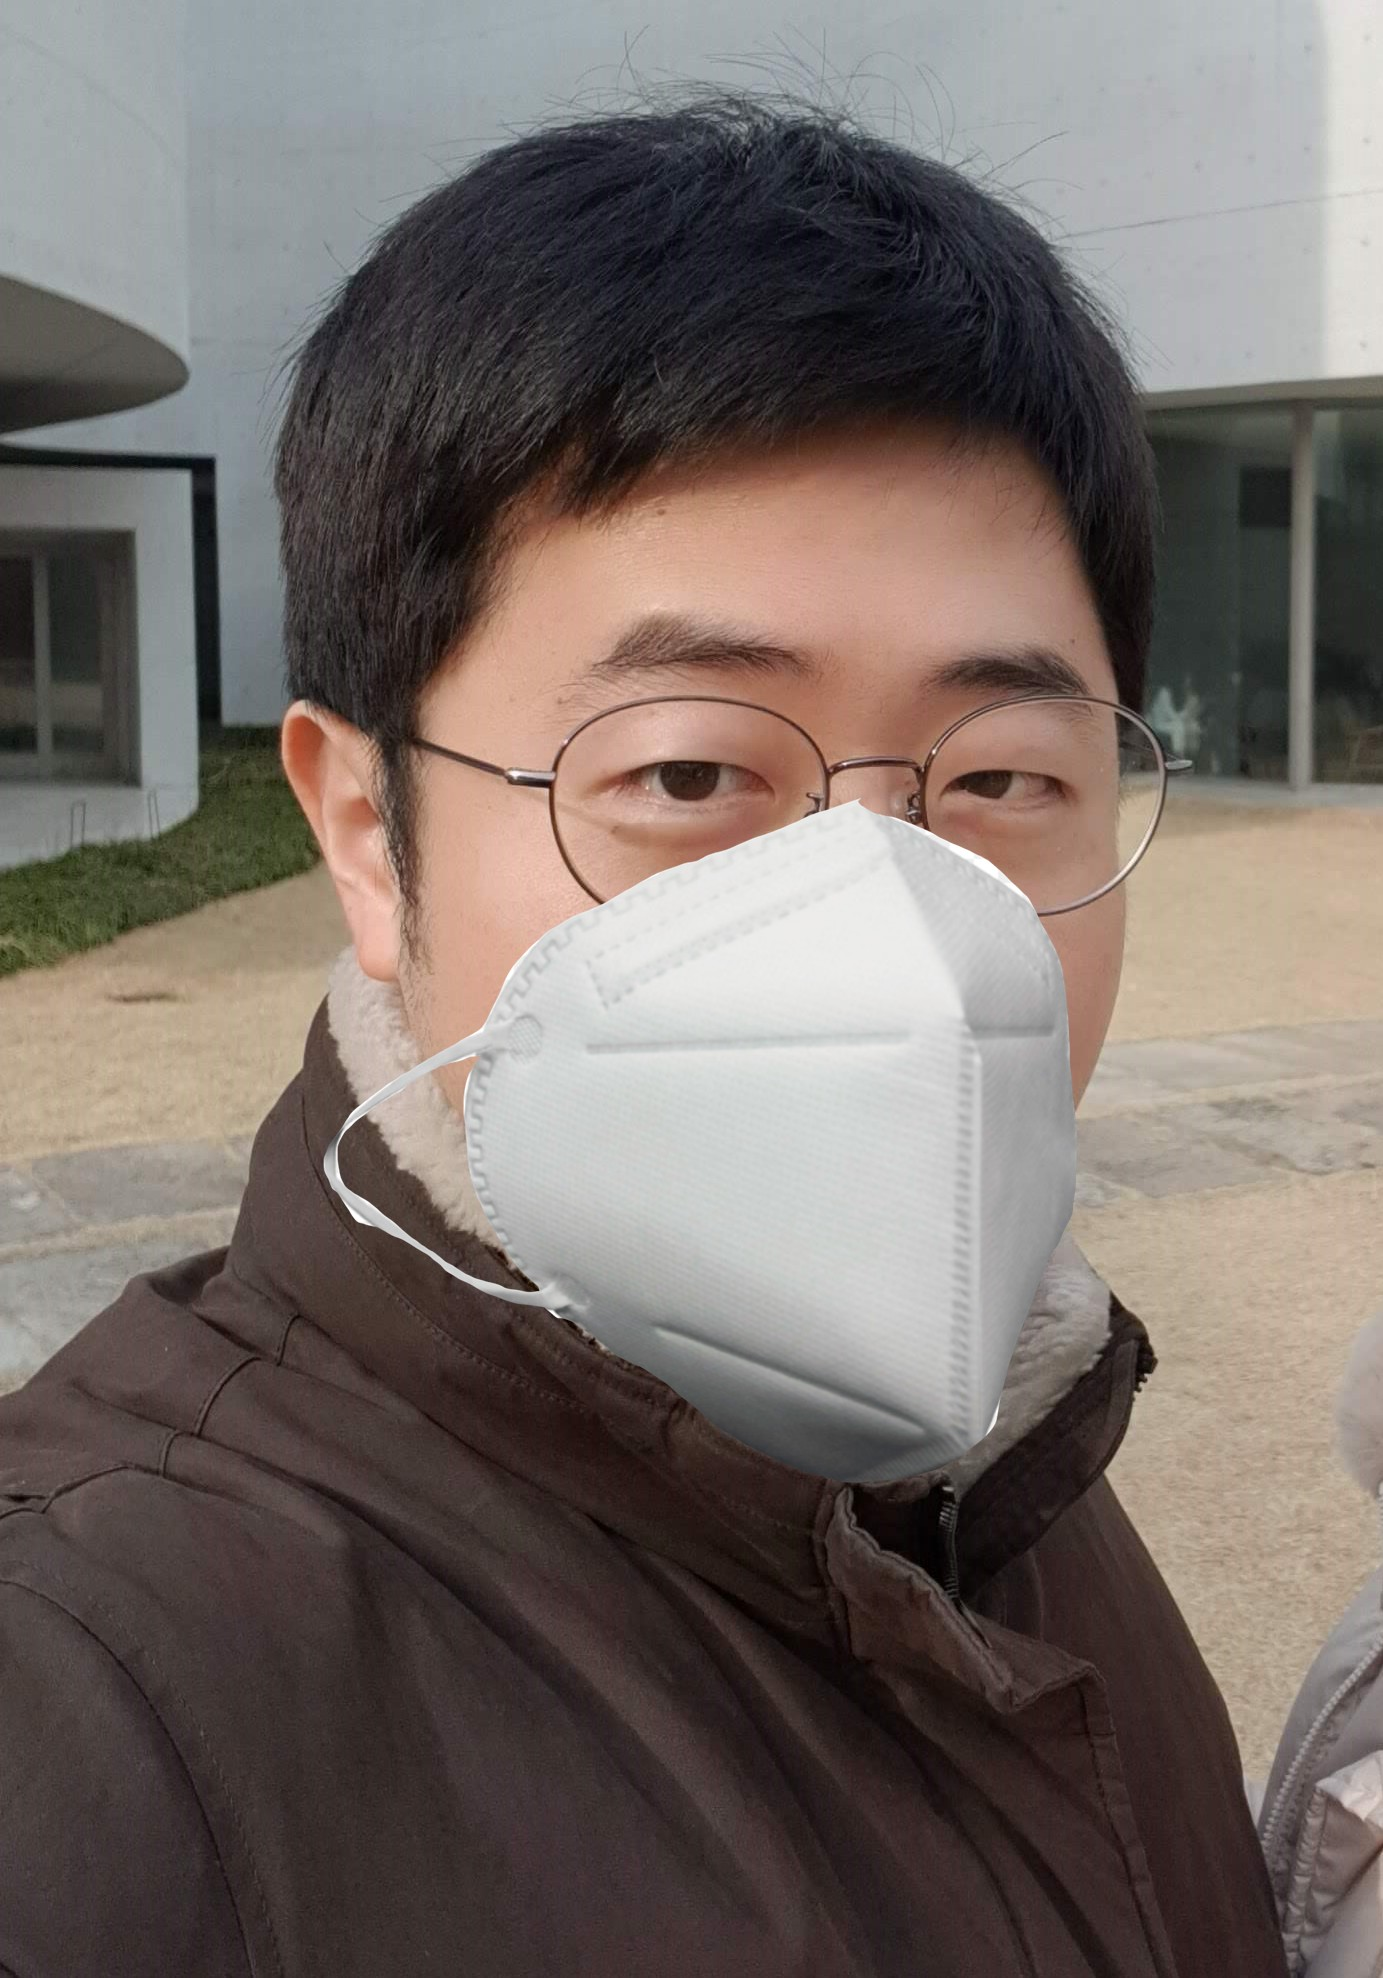mask: (404, 457, 1124, 1377)
